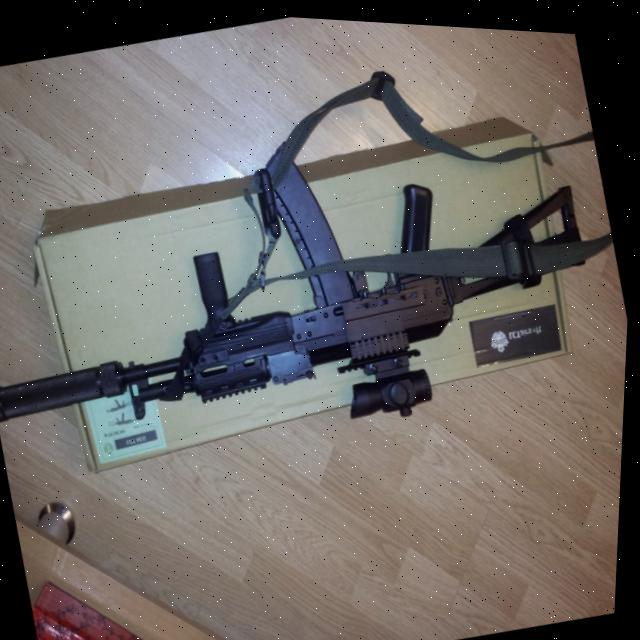firearm: (0, 65, 623, 511)
